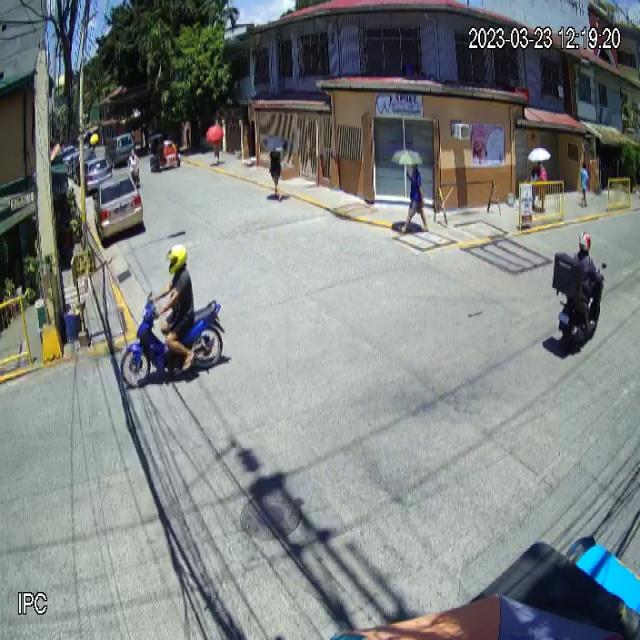Motorcycle: (118, 290, 226, 390)
